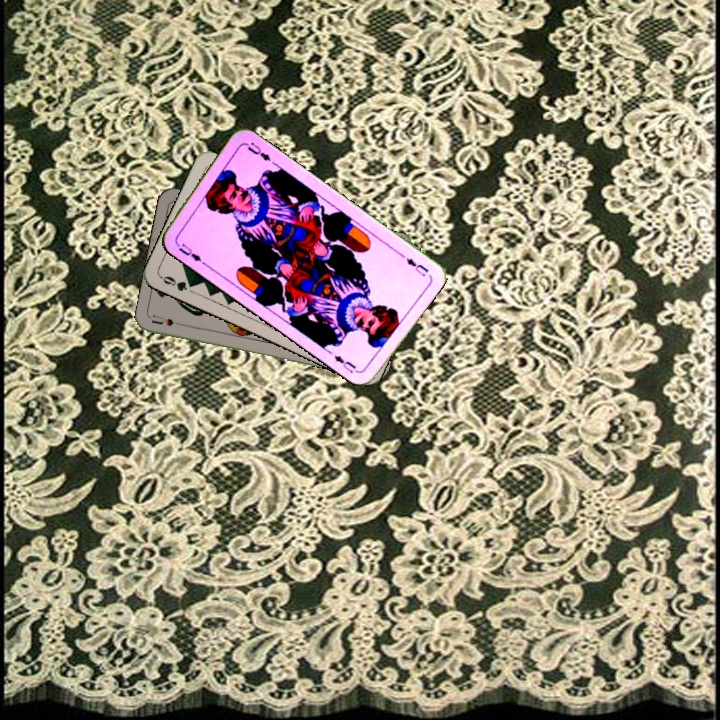EU: (172, 238, 204, 264), (402, 254, 431, 279)
G9: (157, 272, 198, 294)
SU: (148, 311, 189, 329)
